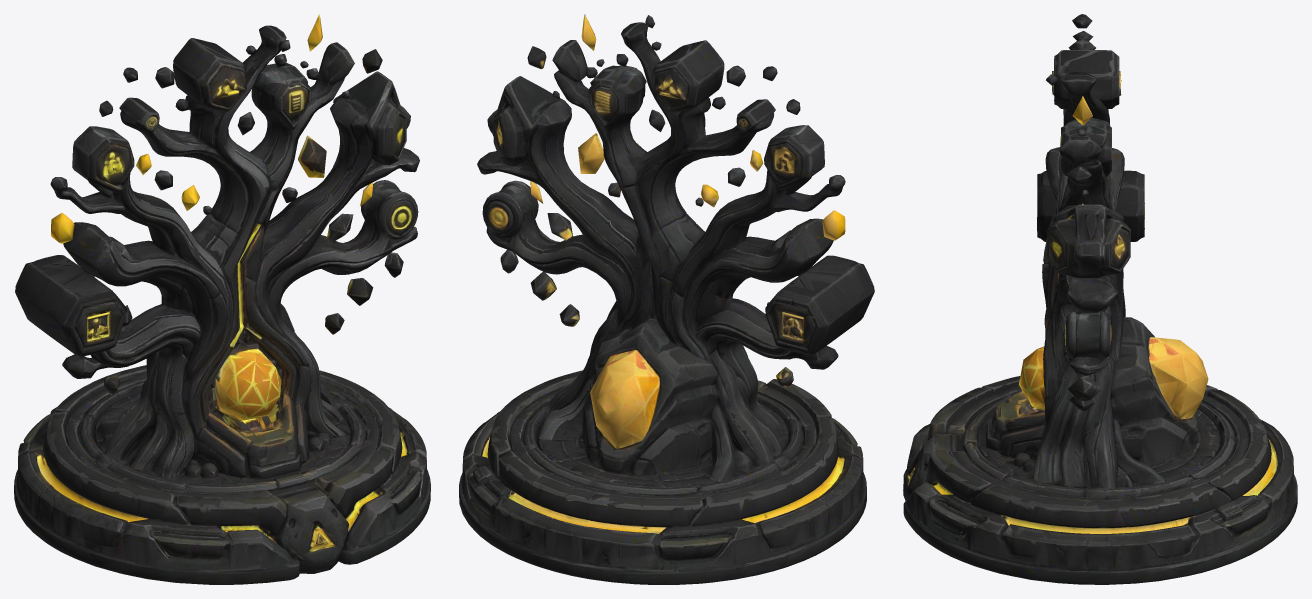
The model's file is Ember_Tree_of_Knowled.glb.
3 views of the same model, side by side, from view 1: azimuth 30°, elevation 25°; view 2: azimuth 150°, elevation 25°; view 3: azimuth 270°, elevation 25° (orthographic). The views are drawn at different scales.
Parts seen in each view (by area): view 1: Ember_Tree_of_Knowled; view 2: Ember_Tree_of_Knowled; view 3: Ember_Tree_of_Knowled.
Part boxes in pixels (box(x1,y1,x2,y2)): Ember_Tree_of_Knowled: box(14, 14, 430, 584); Ember_Tree_of_Knowled: box(459, 14, 874, 584); Ember_Tree_of_Knowled: box(903, 14, 1297, 584).
Size of the model in its own units: 1.58 by 1.9 by 1.51.
1 material, 1 textured.
